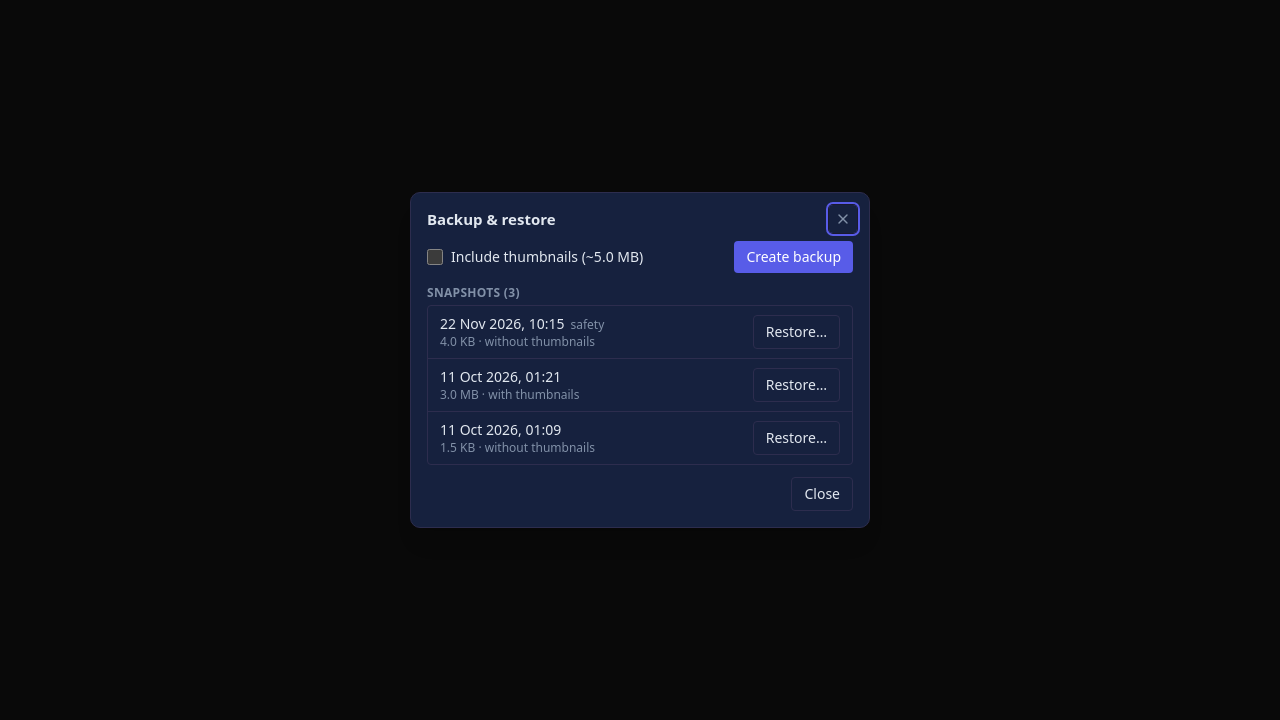
Test: BackupRestoreDialog › restore error {"status":200,"body":{"ok":false,"error":"boom"}} stays in the confirmation; nothing else changes
Click the button "Restore…" in the row of "22 Nov 2026, 10:15" at (796, 332), box [753, 315, 840, 349]
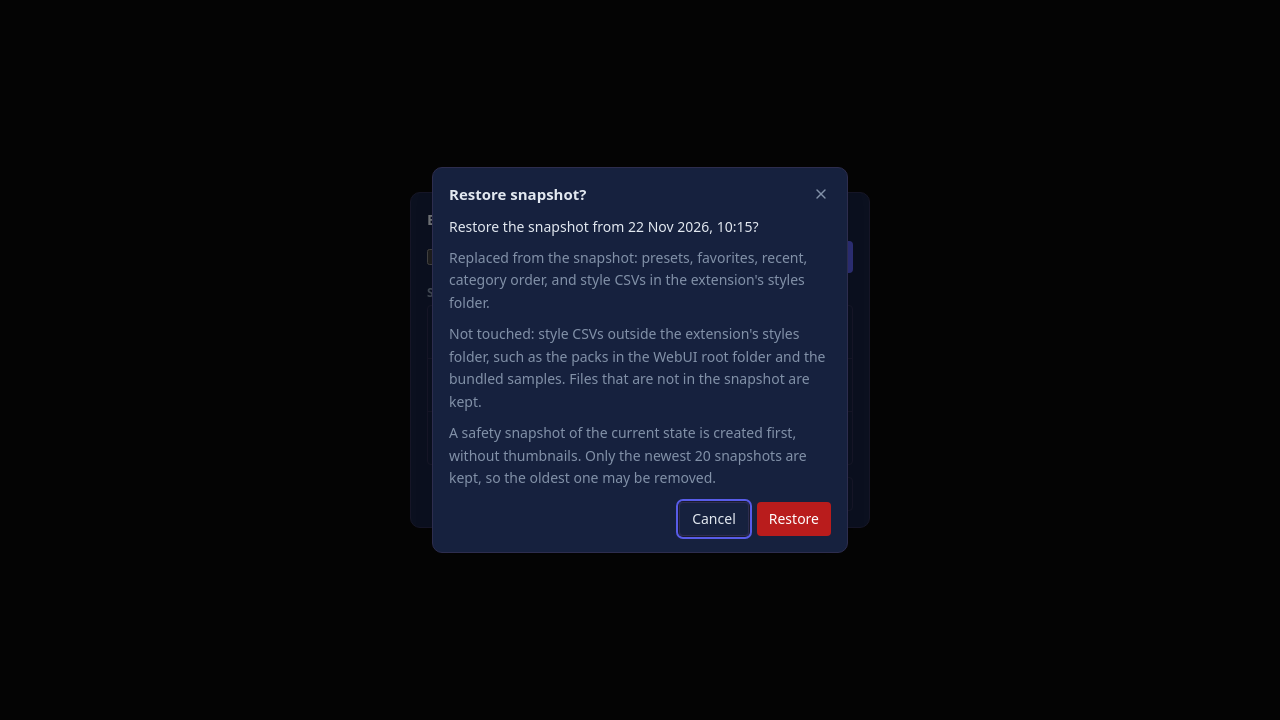
Click the button "Restore" at (794, 519), box [757, 502, 831, 536]
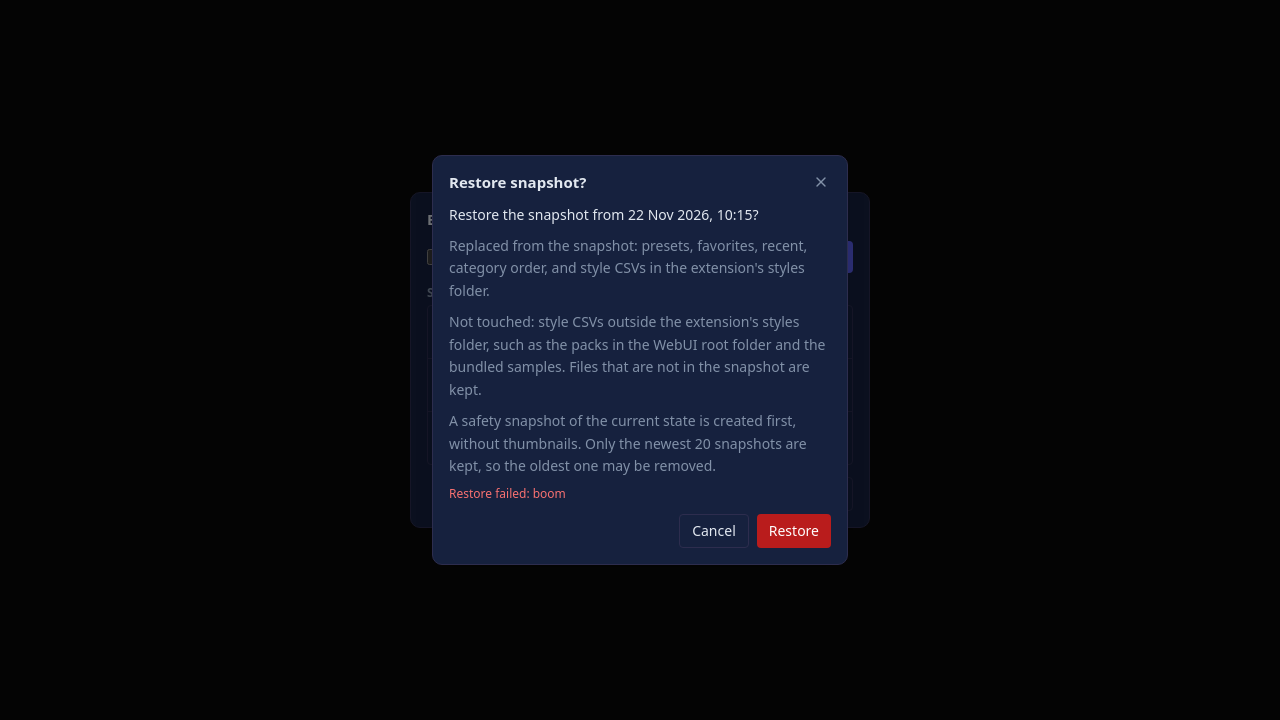
Check: the button "Restore" is enabled, box [757, 514, 831, 548]
Check: the message "Restore failed: boom" is shown, box [449, 485, 566, 502]
